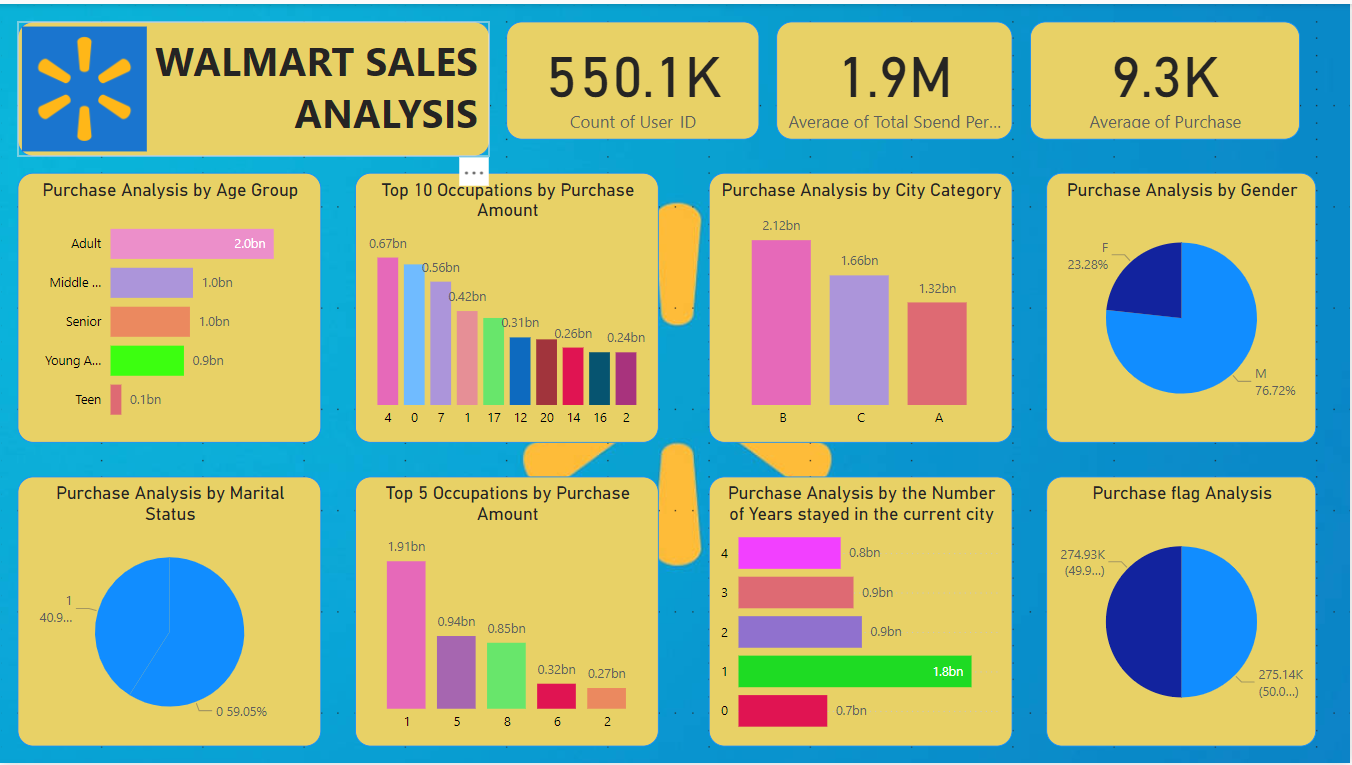

Layout of this report page (visuals, bound fields, positions):
{"tool":"powerbi","page":{"name":"Page 1","canvas":[1280,720],"ordinal":0},"visuals":[{"type":"barChart","title":"Purchase Analysis by Age Group","fields":{"Category":["walmart.Age Group"],"Y":["Sum(walmart.Purchase)"]},"box":[16,160,288,256],"z":0},{"type":"pieChart","title":"Purchase Analysis by Marital Status","fields":{"Category":["walmart.Marital_Status"],"Y":["Sum(walmart.Purchase)"]},"box":[16,448,288,256],"z":1},{"type":"pieChart","title":"Purchase Analysis by Gender","fields":{"Y":["Sum(walmart.Purchase)"],"Category":["walmart.Gender"]},"box":[992,160,256,256],"z":2},{"type":"columnChart","title":"Purchase Analysis by City Category","fields":{"Category":["walmart.City_Category"],"Y":["Sum(walmart.Purchase)"]},"box":[672,160,288,256],"z":3},{"type":"columnChart","title":"Top 10 Occupations by Purchase Amount","fields":{"Y":["Sum(walmart.Purchase)"],"Category":["walmart.Occupation"]},"box":[336,160,288,256],"z":4},{"type":"columnChart","title":"Top 5 Occupations by Purchase Amount","fields":{"Y":["Sum(walmart.Purchase)"],"Category":["walmart.Product_Category"]},"box":[336,448,288,256],"z":5},{"type":"barChart","title":"Purchase Analysis by the Number of Years stayed in the current city","fields":{"Y":["Sum(walmart.Purchase)"],"Category":["walmart.Stay_In_Current_City_Years"]},"box":[672,448,288,256],"z":6},{"type":"pieChart","title":"Purchase flag Analysis","fields":{"Category":["walmart.Purchase Flag"],"Y":["CountNonNull(walmart.Purchase Flag)"]},"box":[992,448,256,256],"z":7},{"type":"card","fields":{"Values":["CountNonNull(walmart.User_ID)"]},"box":[480,16,240,112],"z":8},{"type":"card","fields":{"Values":["Avg(walmart.Purchase)"]},"box":[976,16,256,112],"z":9},{"type":"card","fields":{"Values":["Avg(walmart.Total Spend Per User)"]},"box":[736,16,224,112],"z":10},{"type":"textbox","box":[16,16,448,128],"z":11},{"type":"image","box":[0,16,160,128],"z":12}]}

Visuals, with their boxes in screenshot pixels (x1, y1, x2, y2), scaled from the page's 1280x720 canvas onto the 1352x765 screenshot:
"Purchase Analysis by Age Group" barChart: (17, 170, 321, 442)
"Purchase Analysis by Marital Status" pieChart: (17, 476, 321, 748)
"Purchase Analysis by Gender" pieChart: (1048, 170, 1318, 442)
"Purchase Analysis by City Category" columnChart: (710, 170, 1014, 442)
"Top 10 Occupations by Purchase Amount" columnChart: (355, 170, 659, 442)
"Top 5 Occupations by Purchase Amount" columnChart: (355, 476, 659, 748)
"Purchase Analysis by the Number of Years stayed in the current city" barChart: (710, 476, 1014, 748)
"Purchase flag Analysis" pieChart: (1048, 476, 1318, 748)
card - CountNonNull(walmart.User_ID): (507, 17, 760, 136)
card - Avg(walmart.Purchase): (1031, 17, 1301, 136)
card - Avg(walmart.Total Spend Per User): (777, 17, 1014, 136)
textbox: (17, 17, 490, 153)
image: (0, 17, 169, 153)
